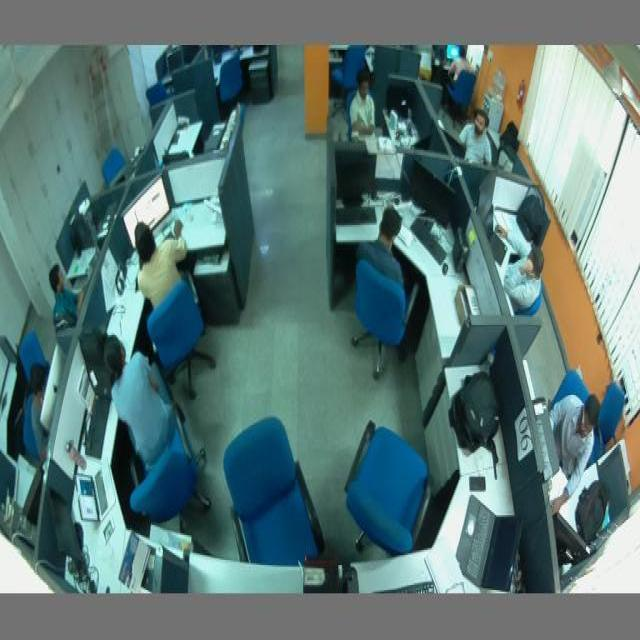chair: (222, 414, 329, 574), (344, 417, 433, 553), (140, 278, 229, 400), (122, 422, 217, 536), (348, 256, 414, 384), (547, 364, 601, 459), (596, 373, 630, 465), (509, 281, 548, 329), (214, 54, 248, 109), (16, 328, 50, 382), (20, 392, 46, 462), (333, 46, 368, 97), (446, 66, 476, 112), (101, 146, 129, 182), (144, 79, 169, 106)
keyboard: (409, 216, 452, 269), (85, 387, 109, 461), (334, 202, 376, 228), (371, 579, 442, 594)
laptop: (453, 493, 524, 594), (74, 466, 118, 526)
monitor: (34, 456, 78, 577), (407, 156, 471, 236), (118, 172, 175, 248), (331, 146, 378, 202), (552, 508, 592, 569)
person: (102, 333, 180, 470), (542, 393, 601, 520), (132, 220, 190, 310), (357, 205, 408, 305), (494, 223, 544, 310), (24, 362, 58, 460), (46, 265, 88, 325), (458, 112, 496, 166), (348, 70, 378, 138)
phone: (466, 473, 489, 494), (100, 519, 116, 543)
